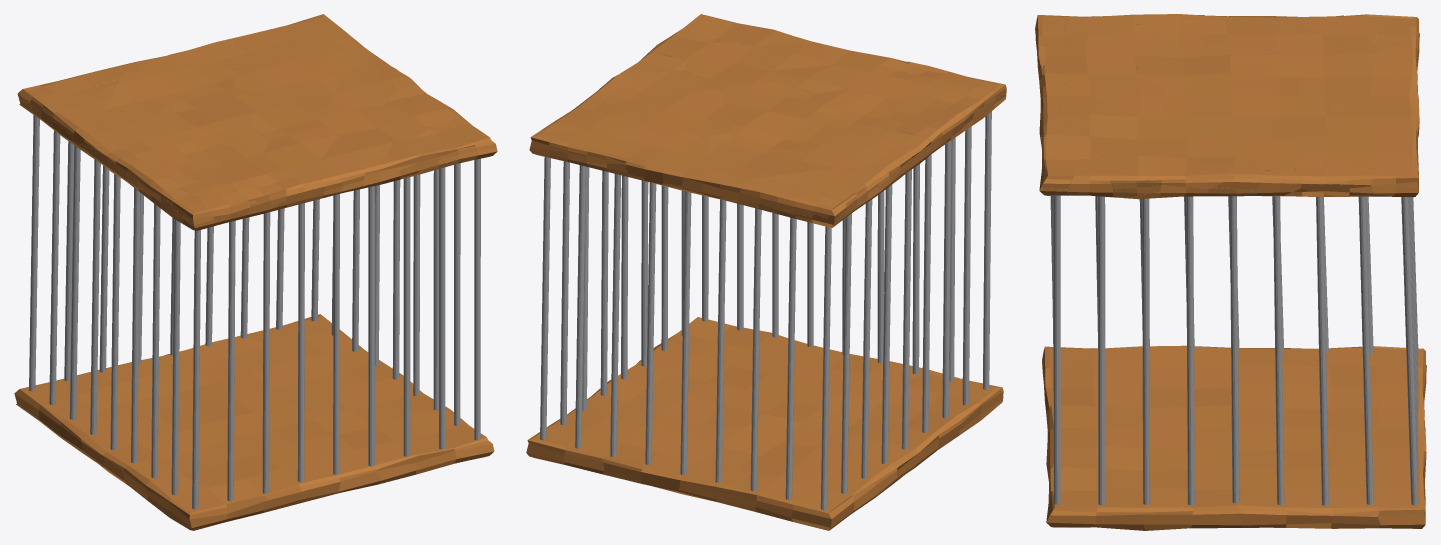
The model's file is prison.fbx.
3 renders of one model, left to right at view 1: azimuth 30°, elevation 25°; view 2: azimuth 150°, elevation 25°; view 3: azimuth 270°, elevation 25°, orthographic. The views are drawn at different scales.
Visible parts, largest first — view 1: Cube.001, Cube.002_cell.016, Cube.002_cell.077, Cube.002_cell.080, Cube.002_cell.090, Cube.002_cell.081, Cube.002_cell.041, Cube.002_cell.035, Cube.002_cell.011, Cube.002_cell.023, Cube.002_cell.084, Cube.002_cell.002 (+28 smaller); view 2: Cube.001, Cube.002_cell.016, Cube.002_cell.077, Cube.002_cell.080, Cube.002_cell.090, Cube.002_cell.081, Cube.002_cell.041, Cube.002_cell.065, Cube.002_cell.035, Cube.002_cell.011, Cube.002_cell.023, Cube.002_cell.084 (+27 smaller); view 3: Cube.001, Cube.002_cell.016, Cube.002_cell.077, Cube.002_cell.080, Cube.002_cell.090, Cube.002_cell.081, Cube.002_cell.041, Cube.002_cell.011, Cube.002_cell.035, Cube.002_cell.023, Cube.002_cell.084, Cube.002_cell.002 (+39 smaller).
Part boxes in pixels (left/top/right/bottom): Cube.001: left=14, top=115, right=494, bottom=530; Cube.002_cell.016: left=233, top=60, right=341, bottom=106; Cube.002_cell.077: left=112, top=65, right=234, bottom=104; Cube.002_cell.080: left=324, top=105, right=427, bottom=141; Cube.002_cell.090: left=167, top=88, right=261, bottom=135; Cube.002_cell.081: left=248, top=99, right=327, bottom=141; Cube.002_cell.041: left=92, top=98, right=162, bottom=139; Cube.002_cell.035: left=327, top=73, right=396, bottom=106; Cube.002_cell.011: left=263, top=125, right=338, bottom=159; Cube.002_cell.023: left=268, top=39, right=356, bottom=65; Cube.002_cell.084: left=320, top=135, right=393, bottom=164; Cube.002_cell.002: left=243, top=153, right=320, bottom=181; Cube.001: left=526, top=111, right=1003, bottom=530; Cube.002_cell.016: left=639, top=89, right=735, bottom=138; Cube.002_cell.077: left=703, top=132, right=808, bottom=178; Cube.002_cell.080: left=686, top=42, right=769, bottom=89; Cube.002_cell.090: left=728, top=108, right=834, bottom=149; Cube.002_cell.081: left=721, top=79, right=817, bottom=116; Cube.002_cell.041: left=796, top=141, right=891, bottom=171; Cube.002_cell.065: left=626, top=136, right=691, bottom=185; Cube.002_cell.035: left=624, top=70, right=717, bottom=96; Cube.002_cell.011: left=757, top=65, right=845, bottom=92; Cube.002_cell.023: left=582, top=103, right=652, bottom=133; Cube.002_cell.084: left=757, top=42, right=830, bottom=70; Cube.001: left=1042, top=195, right=1426, bottom=530; Cube.002_cell.016: left=1207, top=100, right=1344, bottom=148; Cube.002_cell.077: left=1300, top=45, right=1392, bottom=107; Cube.002_cell.080: left=1090, top=117, right=1207, bottom=157; Cube.002_cell.090: left=1206, top=64, right=1301, bottom=105; Cube.002_cell.081: left=1160, top=85, right=1259, bottom=125; Cube.002_cell.041: left=1250, top=23, right=1343, bottom=63; Cube.002_cell.011: left=1092, top=76, right=1164, bottom=117; Cube.002_cell.035: left=1181, top=128, right=1258, bottom=167; Cube.002_cell.023: left=1300, top=129, right=1367, bottom=167; Cube.002_cell.084: left=1060, top=96, right=1136, bottom=134; Cube.002_cell.002: left=1064, top=64, right=1137, bottom=95.
Bounding box in the file's own units: 1606 × 1605 × 1600.
